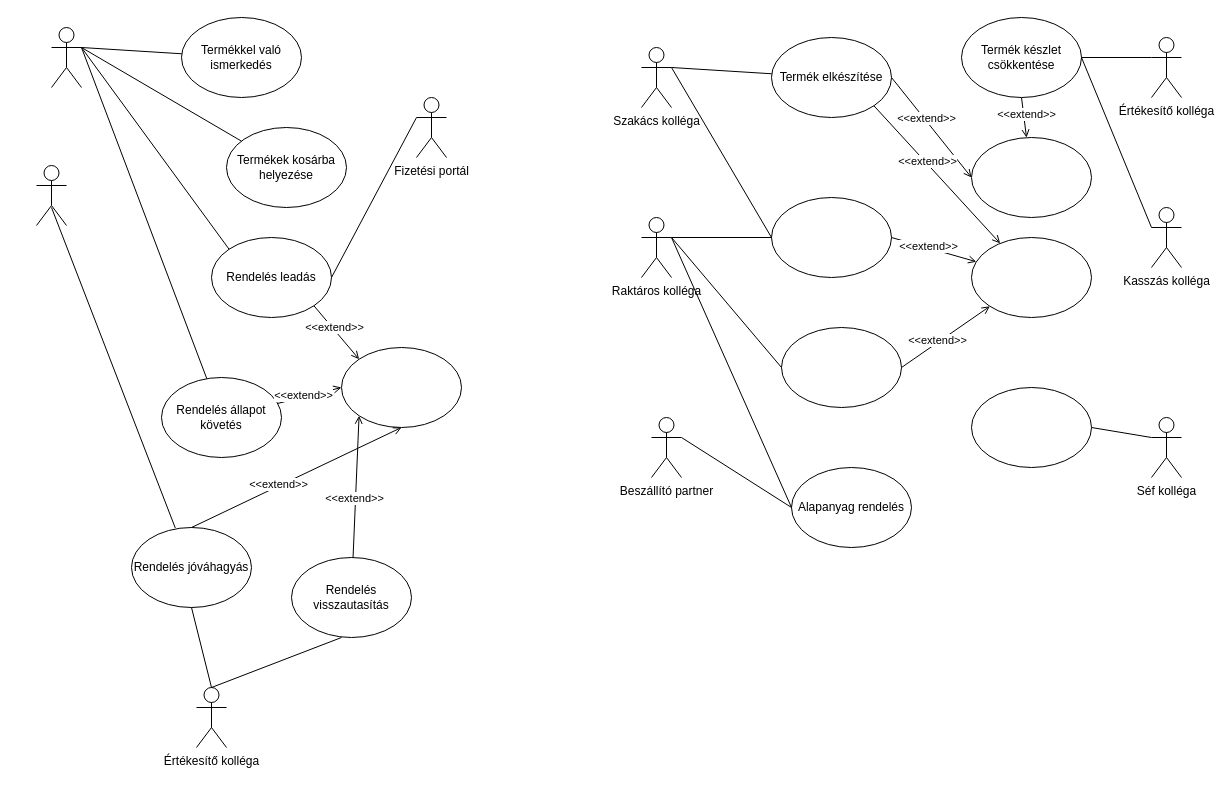
The diagram is 1231 pixels wide and 786 high, and some of its shapes have lost their labels. Each missing label, with the centre of its shape:
"Alapanyag kezelés" belongs at pixel 1031 277.
"Alapanyag mennyiség megtekintése" belongs at pixel 831 237.
"Alapanyag érkeztetés" belongs at pixel 841 367.
"Futár partner" belongs at pixel 51 195.
"Online ügyél" belongs at pixel 66 57.
"Rendelés kezelés" belongs at pixel 401 387.
"Termék kezelés" belongs at pixel 1031 177.
"Új termék felvétele" belongs at pixel 1031 427.
